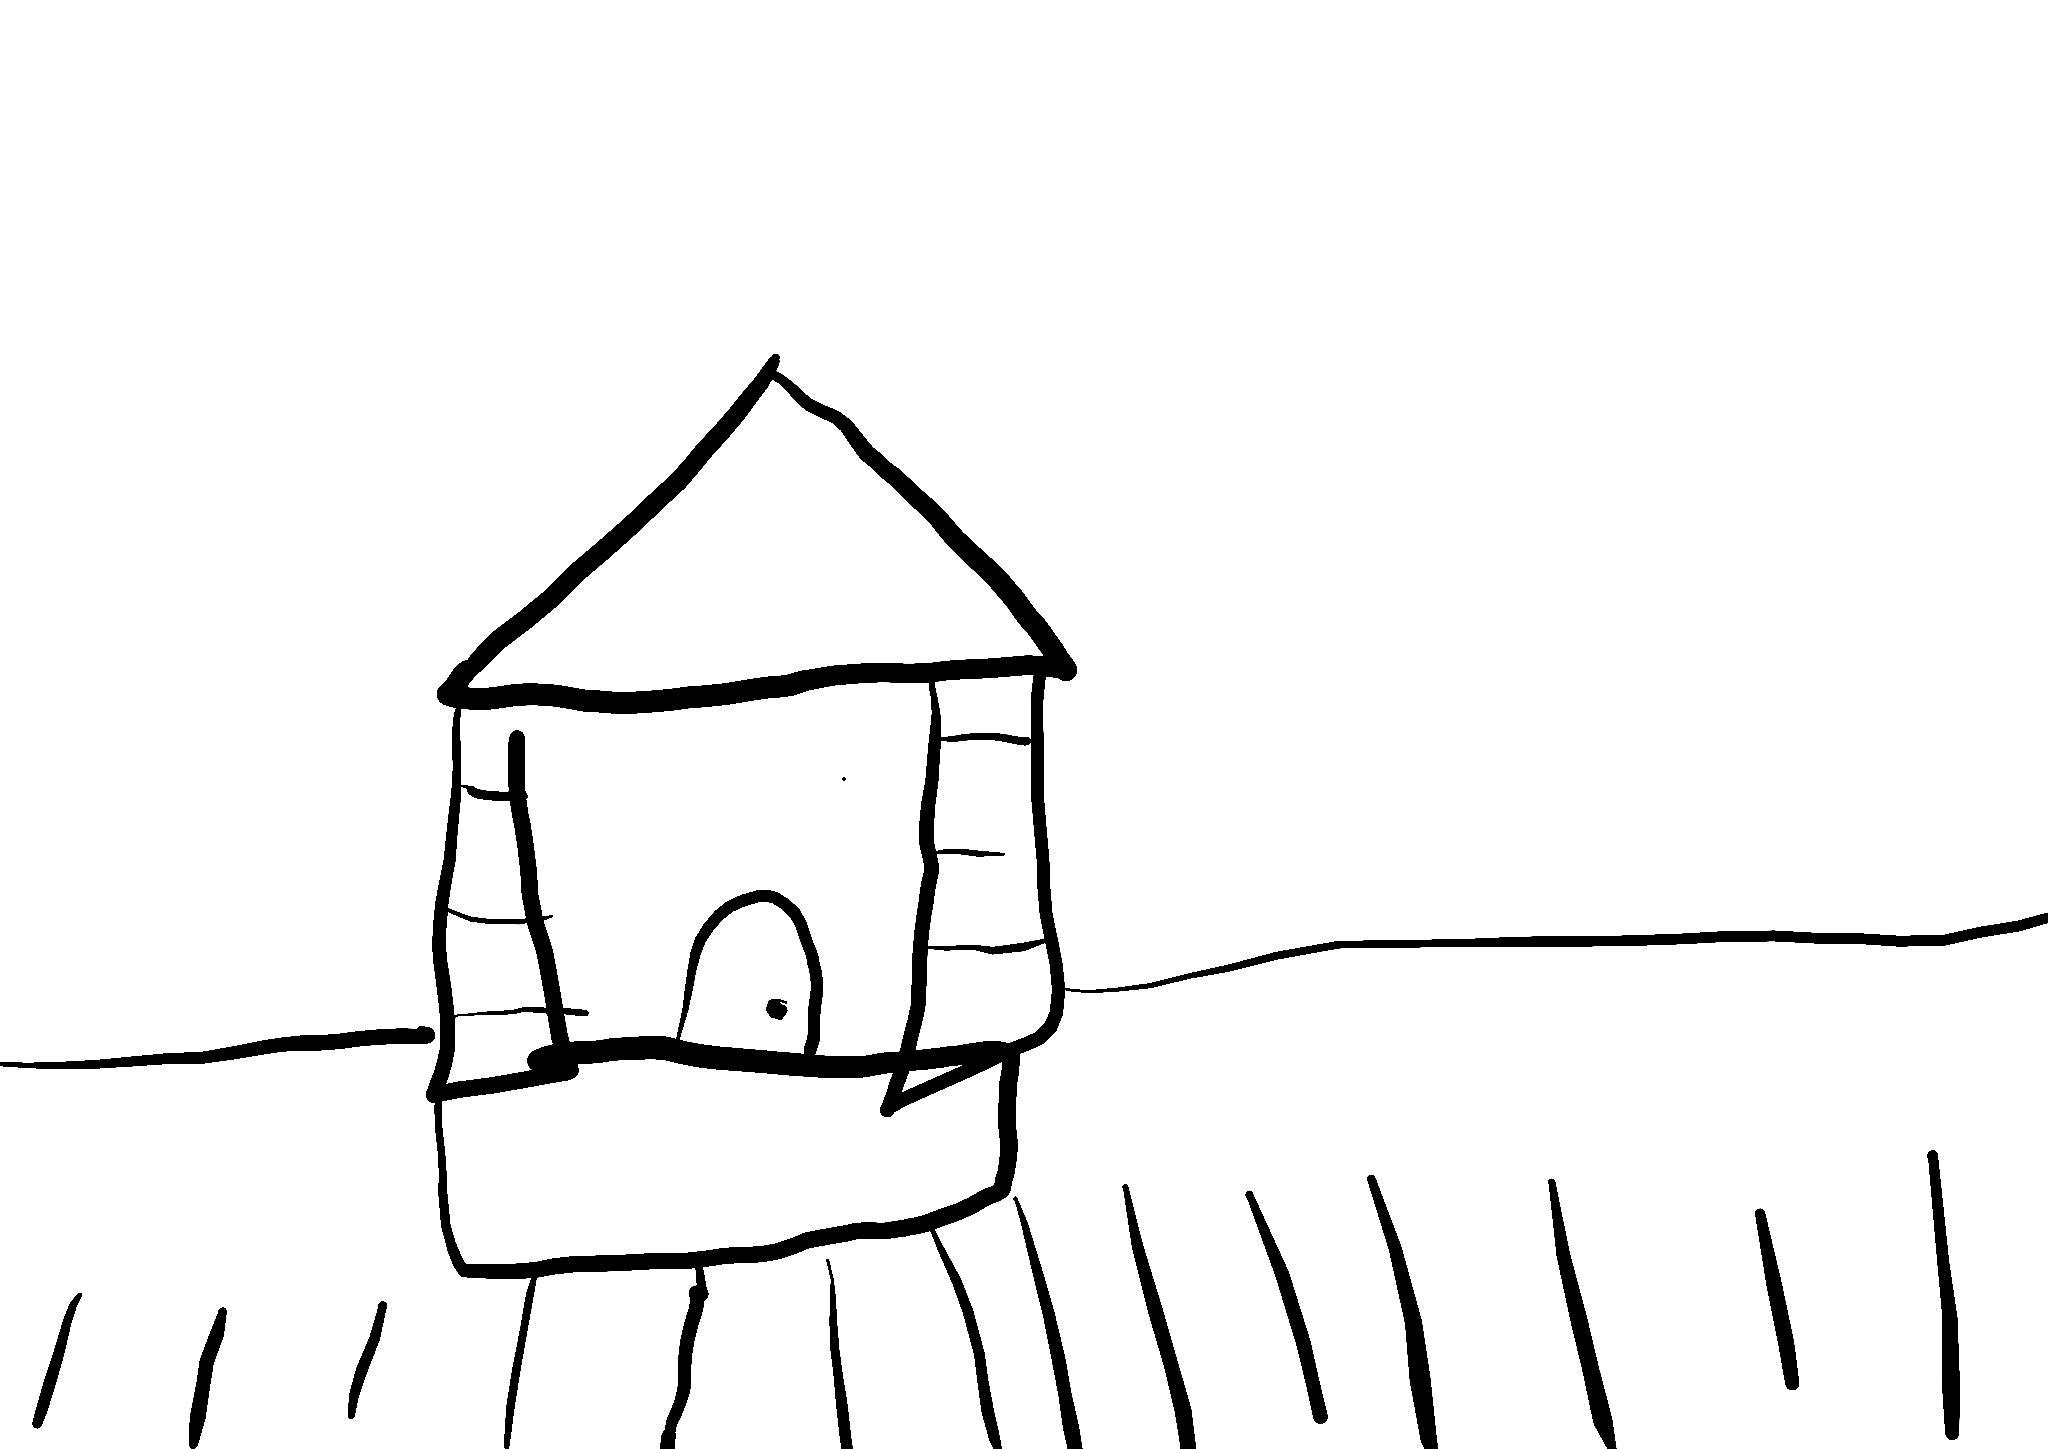door: (681, 903, 809, 1051)
house: (412, 351, 1080, 1090)
roof: (428, 361, 1074, 706)
wall: (436, 671, 1062, 1090)
